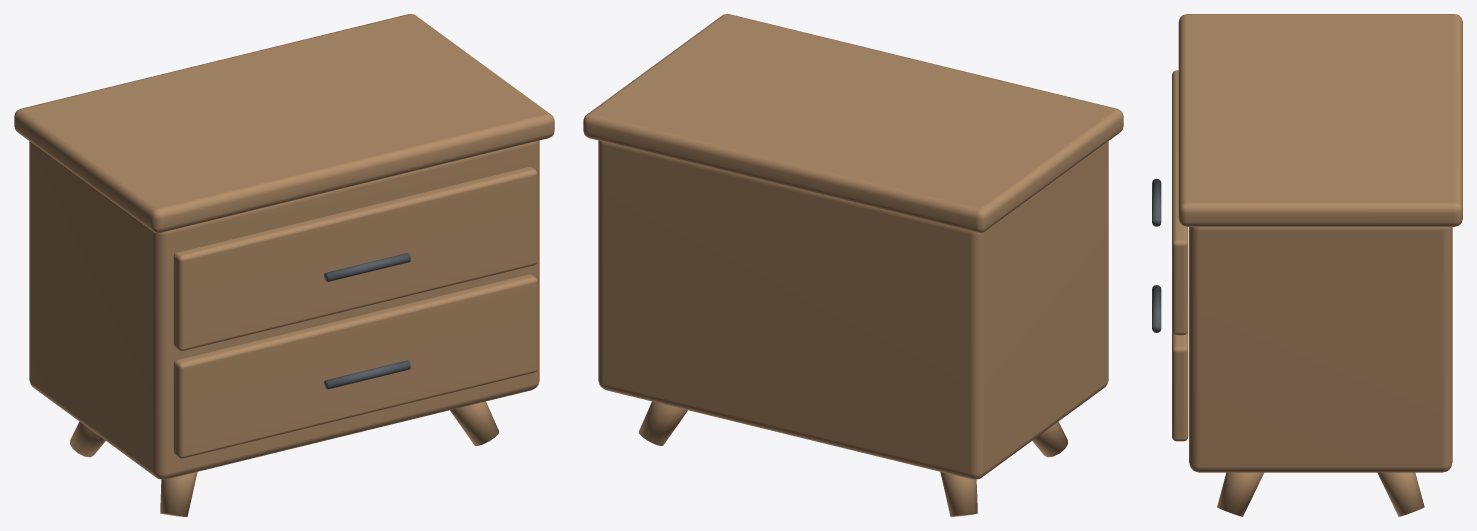
File: atelier-storage-chest.glb
3 renders of one model, left to right at view 1: azimuth 30°, elevation 25°; view 2: azimuth 150°, elevation 25°; view 3: azimuth 270°, elevation 25°, orthographic.
Parts seen in each view (by area): view 1: legs.105, metal.044; view 2: legs.105; view 3: legs.105, metal.044.
Part boxes in pixels (<box>): legs.105: <box>14,14,554,516</box>; metal.044: <box>324,253,410,389</box>; legs.105: <box>583,14,1123,516</box>; legs.105: <box>1172,14,1462,516</box>; metal.044: <box>1152,178,1161,332</box>.
Bounding box in the file's own units: 0.785 × 0.6293 × 0.5305.
